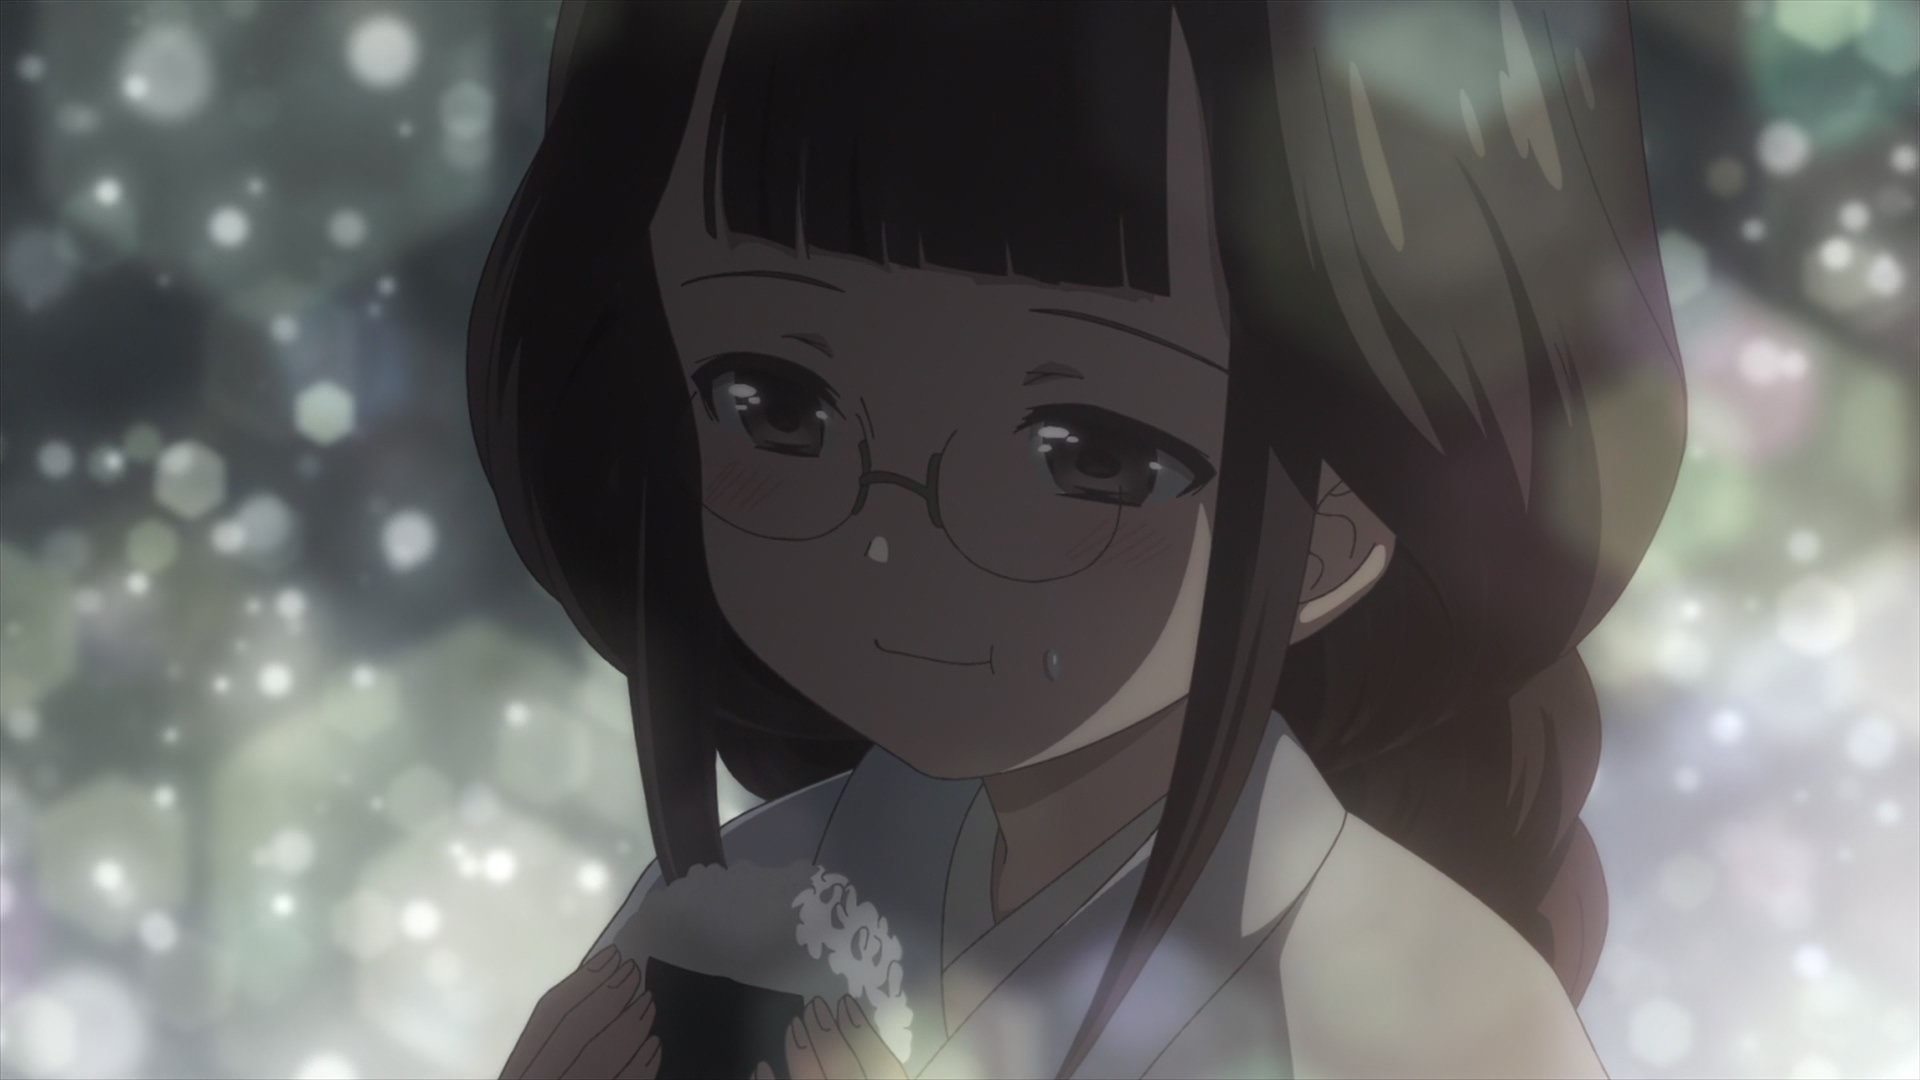其他: (469, 1, 1685, 1080)
